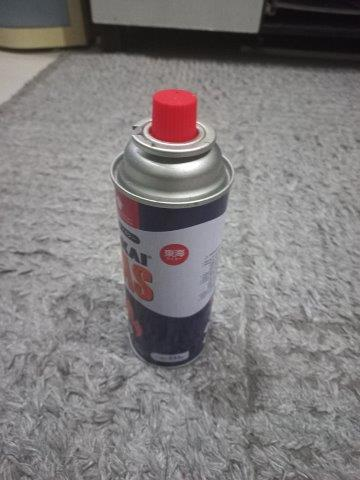kaleng: (110, 89, 235, 365)
